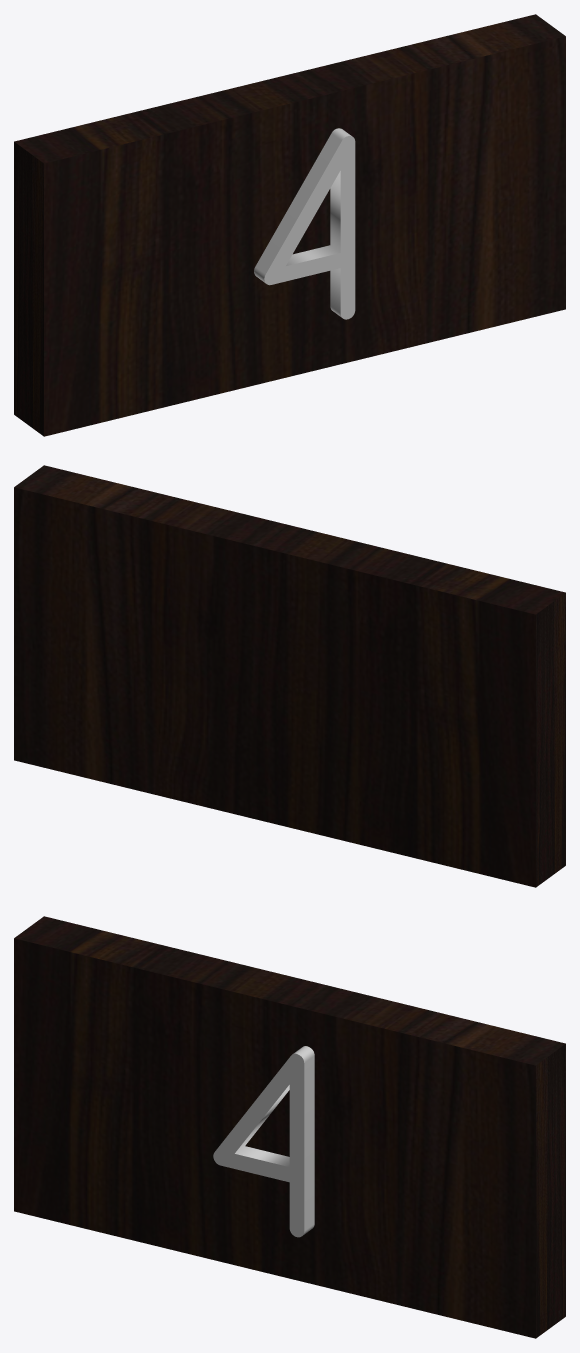
3 renders of one model, top to bottom at view 1: azimuth 30°, elevation 25°; view 2: azimuth 150°, elevation 25°; view 3: azimuth 330°, elevation 25°, orthographic.
Parts seen in each view (by area): view 1: Base, Text; view 2: Base; view 3: Base, Text.
Part boxes in pixels (x1=…): Base: x1=14, y1=14, x2=565, y2=436; Text: x1=254, y1=128, x2=355, y2=319; Base: x1=14, y1=465, x2=565, y2=887; Base: x1=14, y1=916, x2=565, y2=1338; Text: x1=213, y1=1046, x2=314, y2=1237.
Bounding box in the file's own units: 200 × 100 × 26.96.
